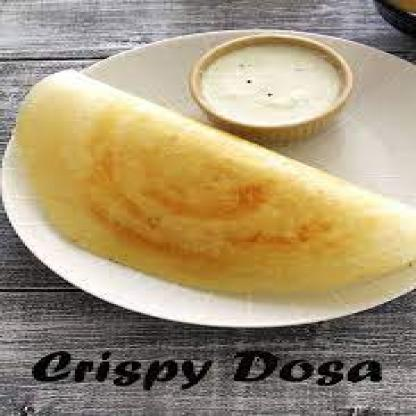dosa: (17, 70, 416, 292)
